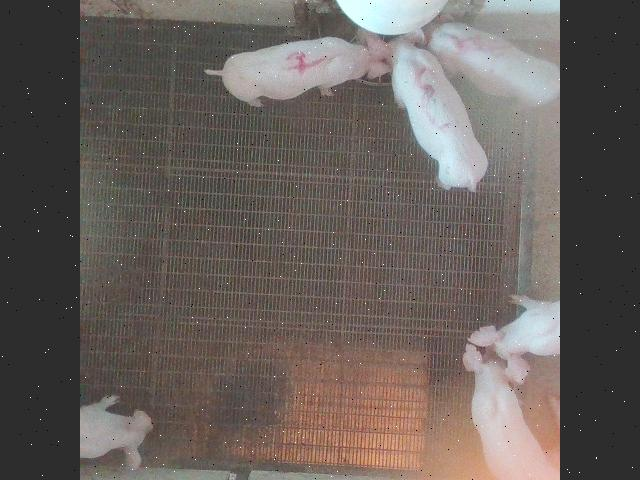pig-3: (368, 32, 487, 190)
pig-4: (210, 36, 370, 105)
pig-5: (428, 22, 559, 105)
